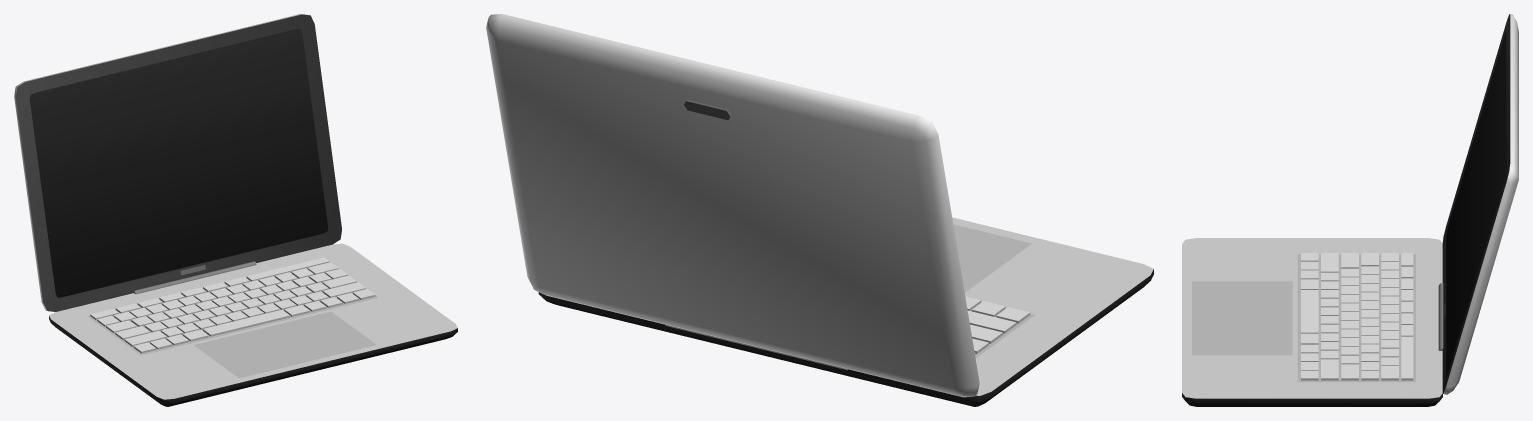
Rendered from CR_sci_notebook_001.FBX.
3 renders of one model, left to right at view 1: azimuth 30°, elevation 25°; view 2: azimuth 150°, elevation 25°; view 3: azimuth 270°, elevation 25°, orthographic. The views are drawn at different scales.
Visible parts, largest first — view 1: CR_sci_notebook_001; view 2: CR_sci_notebook_001; view 3: CR_sci_notebook_001.
Boxes of the visible parts, bbox=[...] form: CR_sci_notebook_001: bbox=[14, 14, 457, 406]; CR_sci_notebook_001: bbox=[486, 14, 1153, 406]; CR_sci_notebook_001: bbox=[1182, 14, 1518, 406].
Size of the model in its own units: 26.06 by 18.41 by 23.11.
